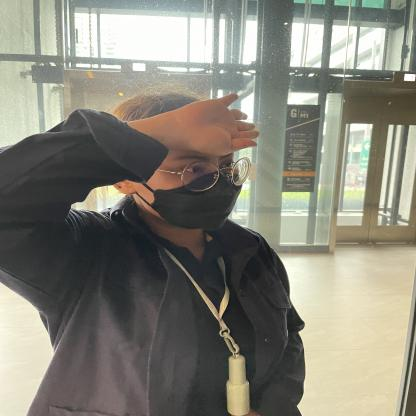Sick: (69, 70, 306, 176)
